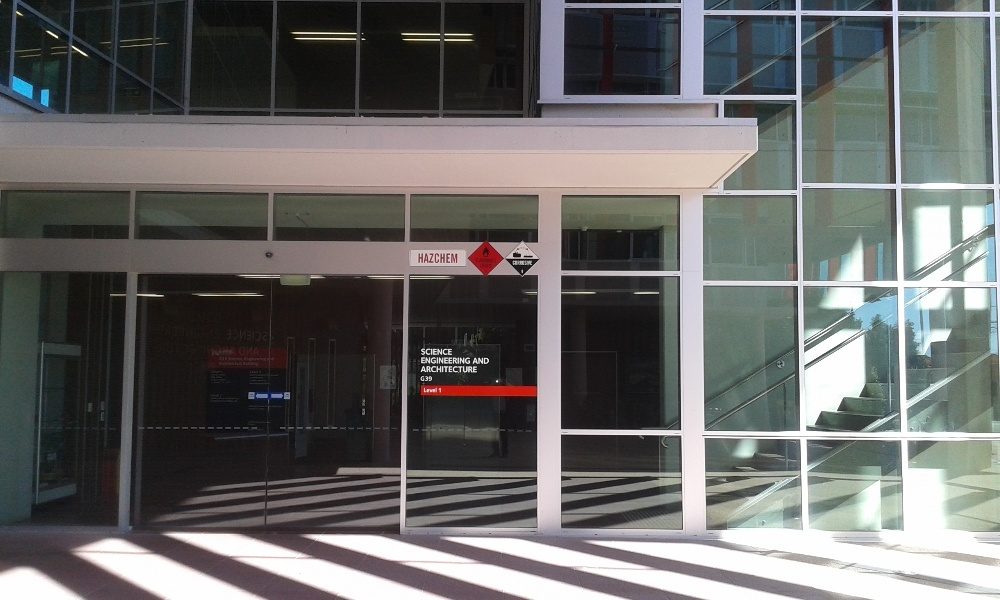text: (417, 253, 432, 265), (433, 253, 448, 265), (209, 373, 224, 385), (257, 374, 272, 386), (449, 253, 460, 265), (433, 357, 448, 365), (449, 357, 464, 365), (481, 258, 496, 265), (433, 349, 448, 356), (433, 366, 448, 373), (449, 366, 464, 373), (257, 404, 272, 411), (420, 357, 432, 365), (225, 373, 233, 385), (465, 366, 478, 373), (209, 397, 224, 403), (225, 397, 240, 403), (249, 374, 256, 386), (273, 404, 285, 411), (421, 349, 432, 356), (513, 261, 528, 266), (481, 264, 493, 270), (273, 374, 279, 386), (422, 366, 432, 373), (210, 393, 224, 398), (481, 358, 490, 365), (420, 376, 432, 381), (210, 370, 224, 374), (249, 404, 256, 411), (465, 357, 471, 365), (439, 388, 448, 393), (474, 358, 480, 365), (424, 388, 432, 393), (476, 258, 480, 265), (449, 349, 453, 356), (433, 388, 438, 393), (249, 371, 256, 374), (529, 261, 533, 266), (257, 371, 262, 374), (497, 258, 498, 265), (479, 264, 480, 270), (241, 397, 242, 403), (511, 261, 512, 266)
